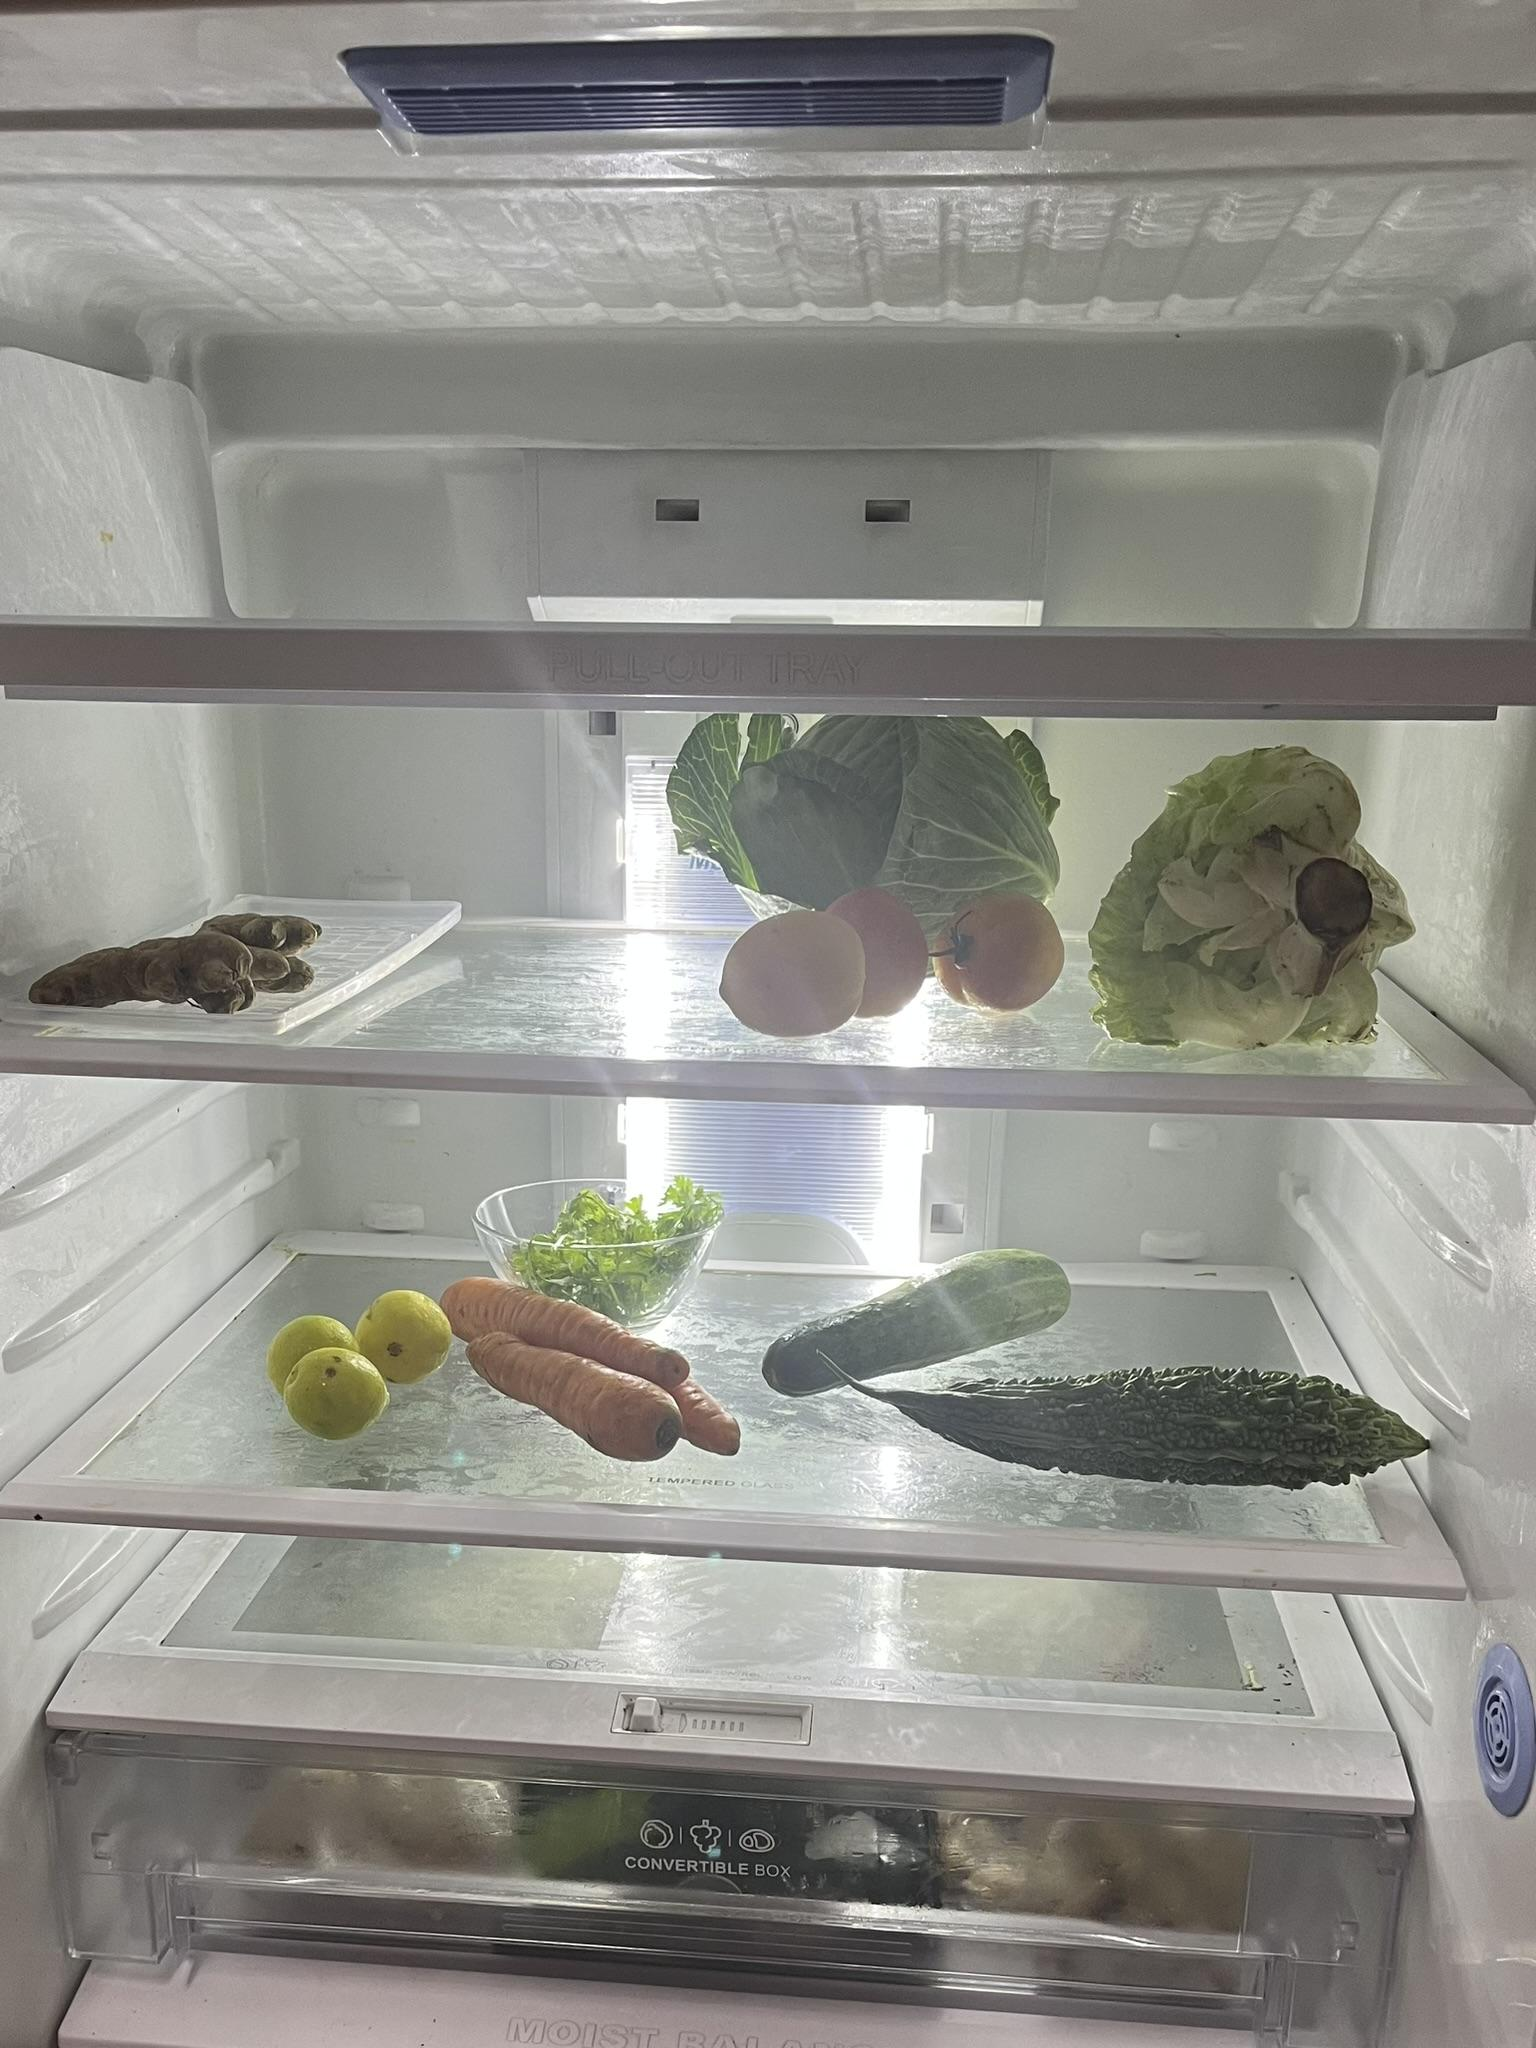bitter gaurd: (866, 1347, 1423, 1490)
cabbage: (676, 706, 1091, 930)
carrots: (444, 1274, 770, 1474)
coriander: (490, 1174, 703, 1277)
cucumber: (757, 1243, 1083, 1403)
ginger: (37, 906, 319, 1013)
lemon: (257, 1290, 440, 1427)
lettuce: (1083, 740, 1444, 1056)
tomato: (707, 874, 937, 1040), (941, 887, 1063, 1006)
